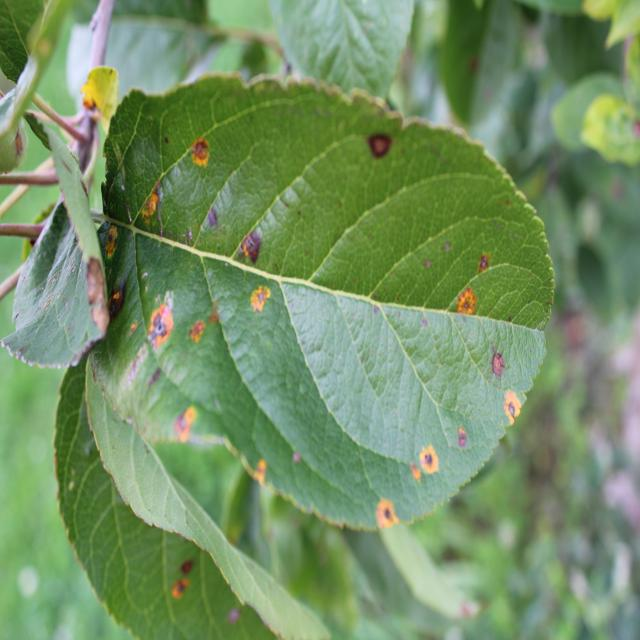rust: (90, 72, 556, 532), (52, 345, 279, 640)
